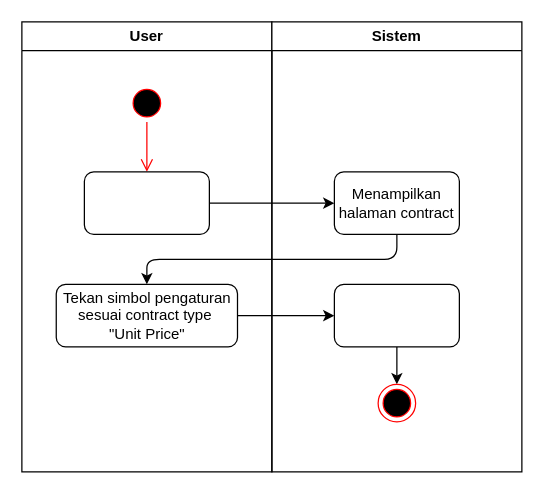
This 544x494 diagram has some shape labels left out. Each missing label, with the centre of its shape:
"Membuka halaman contract" belongs at (x=146, y=202).
"Menampilkan halaman detail contract" belongs at (x=396, y=315).
